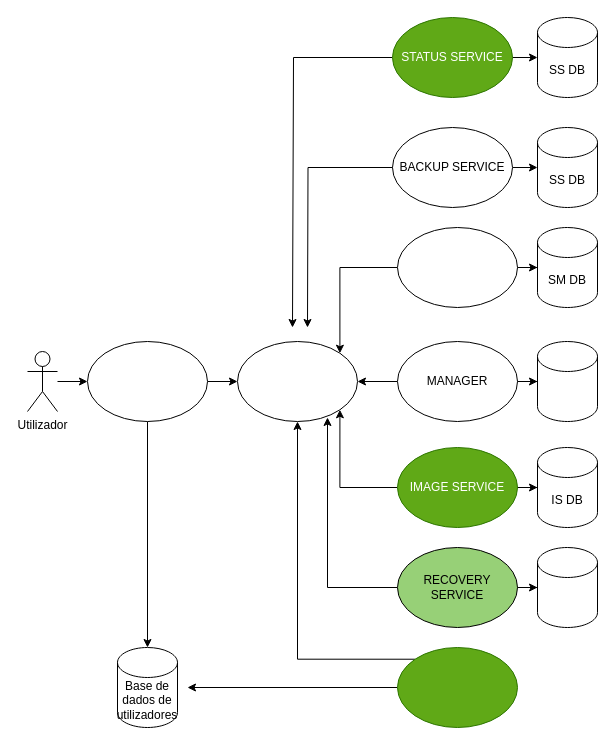
The diagram is 615 pixels wide and 745 high, and some of its shapes have lost their labels. The box of each missing label's shape, as (x1, y1, x2, y2) in pixels:
API GATEWAY: (236, 340, 358, 422)
INTERFACE DE UTILIZADOR: (86, 340, 208, 422)
MS DB: (536, 340, 598, 422)
RS DB: (536, 546, 598, 628)
SERVICE MANAGEMENT: (396, 226, 518, 308)
USERSERVICE: (396, 646, 518, 728)
